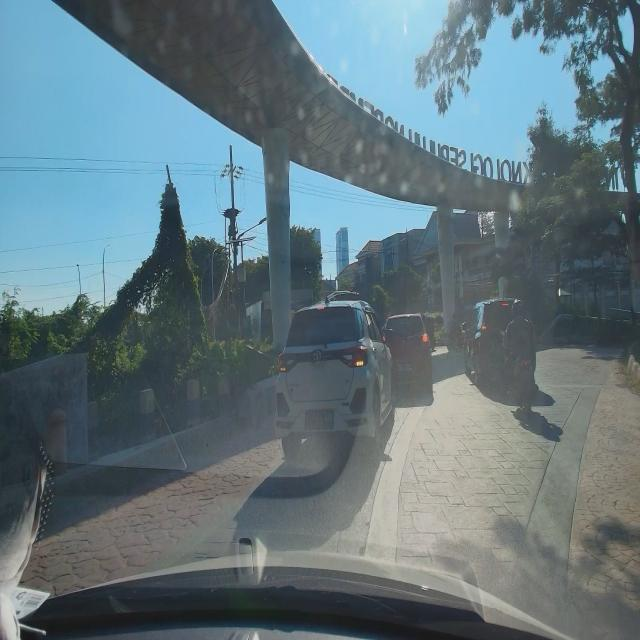car: (272, 295, 397, 463), (379, 312, 434, 399)
